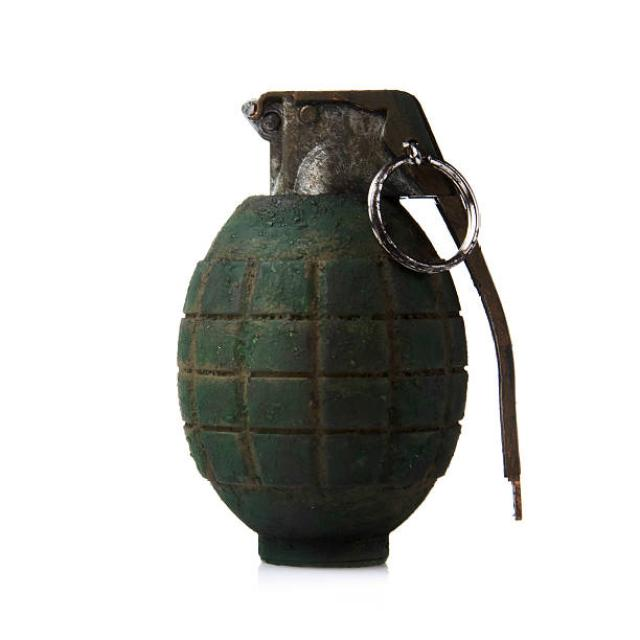grenade: (174, 84, 535, 576)
